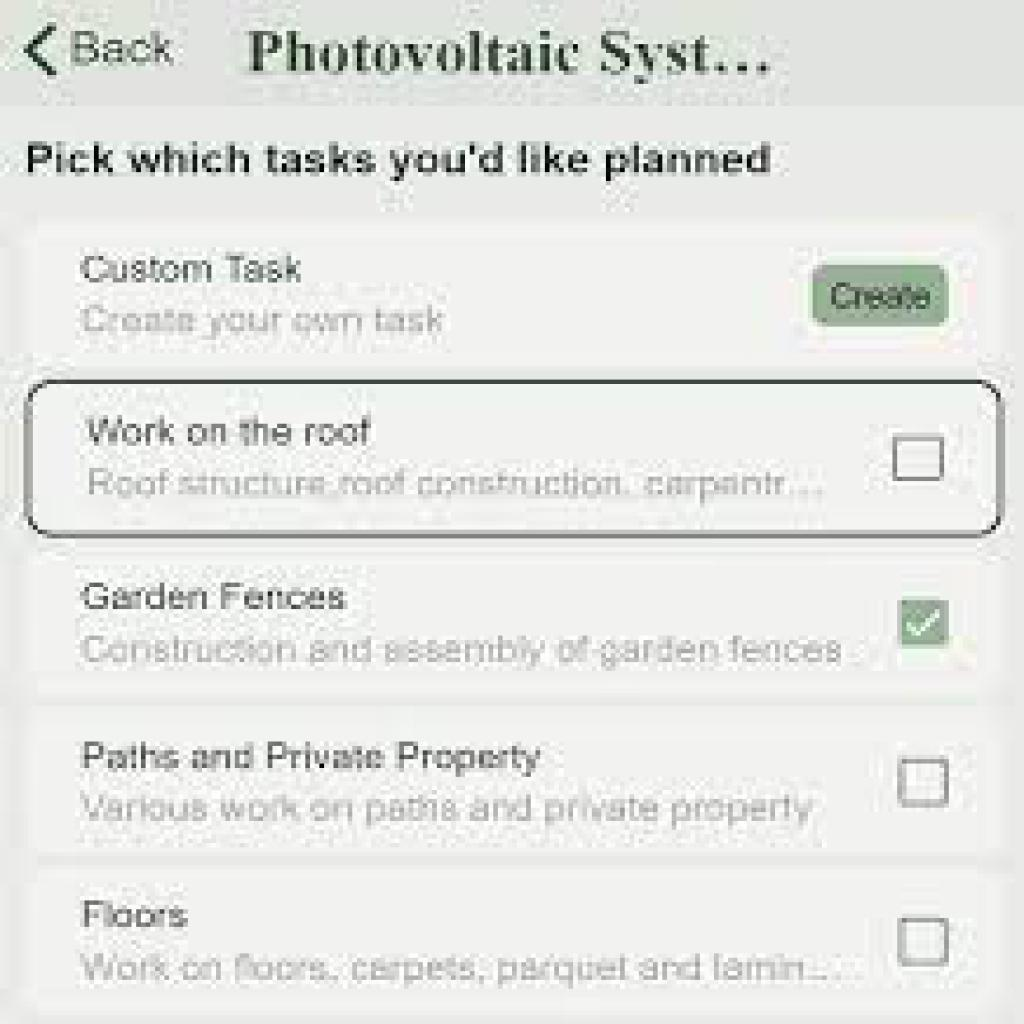button: (814, 262, 952, 326)
checkbox: (898, 758, 950, 809), (895, 918, 949, 967), (900, 600, 952, 649), (894, 437, 943, 483)
icon: (18, 20, 66, 85)
label: (75, 737, 549, 782), (84, 400, 382, 454), (78, 575, 351, 619), (75, 244, 319, 290), (71, 20, 181, 77), (78, 894, 197, 939)
